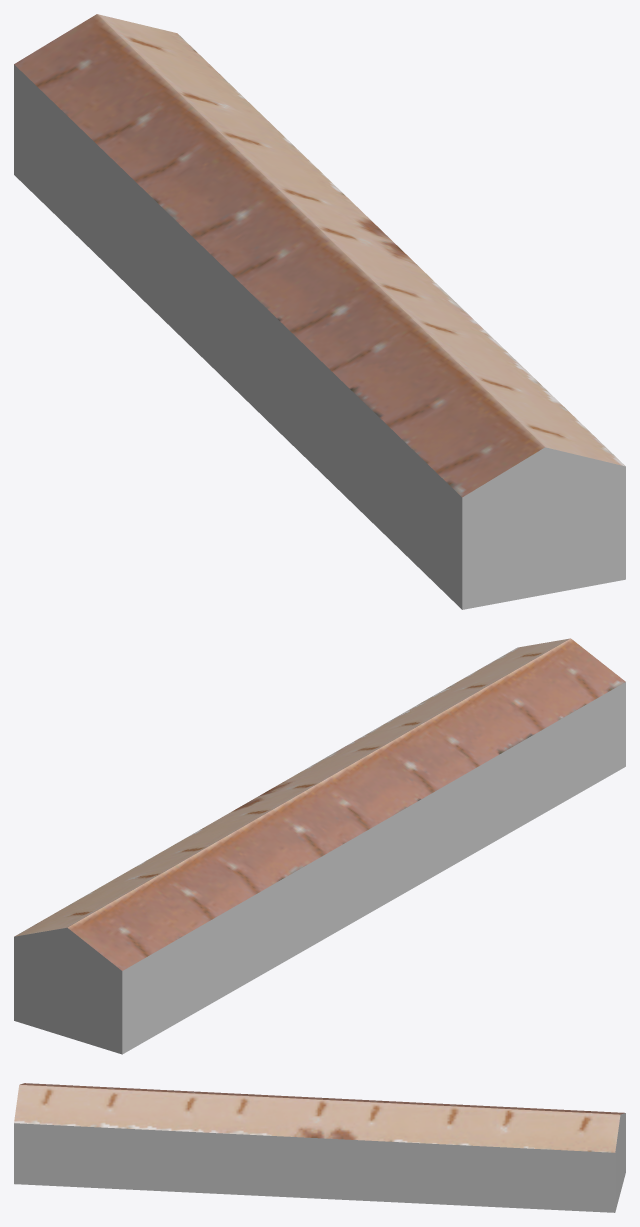
Rendered from DEBW_0010007Txaj.gltf.
3 views of the same model, one above another, from view 1: azimuth 30°, elevation 25°; view 2: azimuth 150°, elevation 25°; view 3: azimuth 270°, elevation 25° (orthographic). The views are drawn at different scales.
Parts seen in each view (by area): view 1: Z_UP; view 2: Z_UP; view 3: Z_UP.
Part boxes in pixels (x1,y1,x2,y2): Z_UP: [14, 14, 625, 609]; Z_UP: [14, 638, 625, 1054]; Z_UP: [14, 1083, 625, 1212].
Bounding box in the file's own units: 15.41 × 8.24 × 57.58.
Materials: 2 (1 with a texture image).
